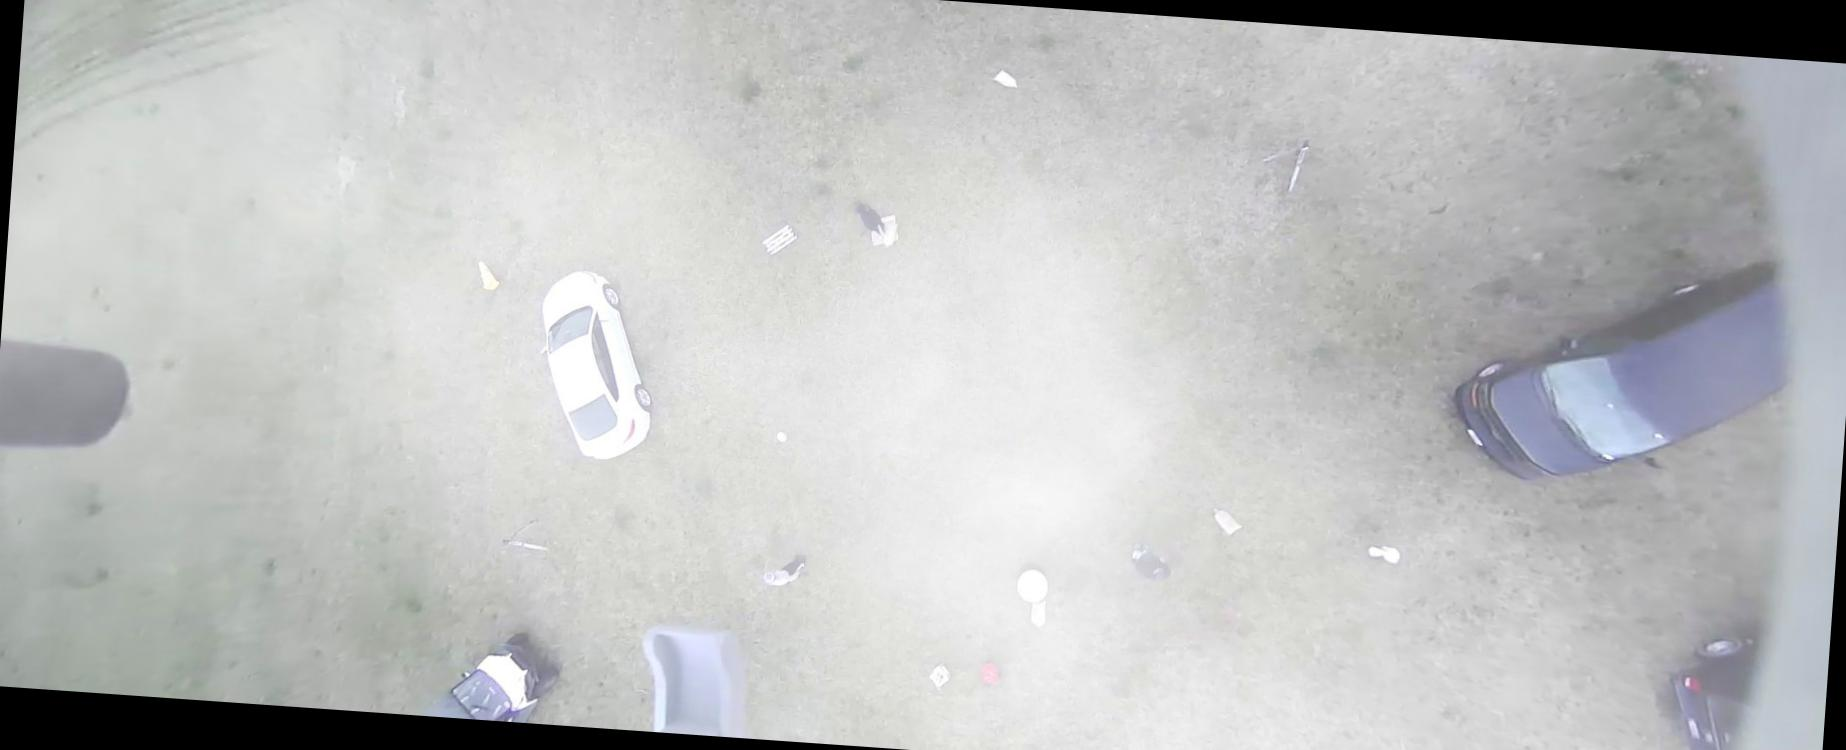vehicle: (1448, 240, 1801, 498), (531, 267, 662, 464), (1662, 628, 1764, 749), (446, 628, 563, 724)
